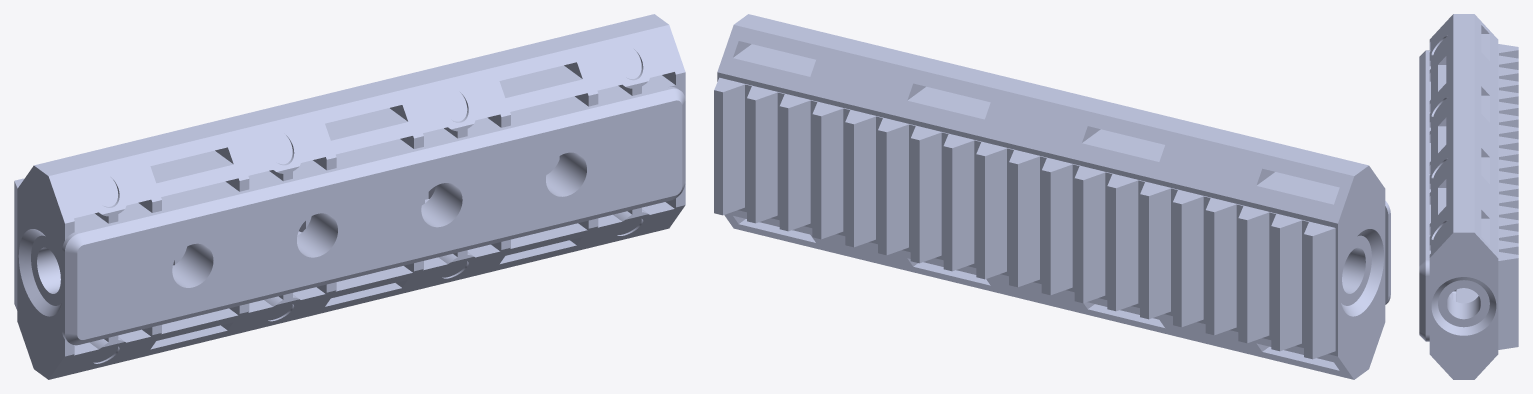
3 views of the same model, side by side, from view 1: azimuth 30°, elevation 25°; view 2: azimuth 150°, elevation 25°; view 3: azimuth 270°, elevation 25° (orthographic). The views are drawn at different scales.
Parts seen in each view (by area): view 1: NAUO1, NAUO2; view 2: NAUO1, NAUO2; view 3: NAUO1, NAUO2.
Boxes of the visible parts, left/top/right/bottom form: NAUO1: left=14, top=14, right=685, bottom=379; NAUO2: left=62, top=87, right=685, bottom=345; NAUO1: left=714, top=14, right=1385, bottom=379; NAUO2: left=1385, top=201, right=1390, bottom=304; NAUO1: left=1429, top=14, right=1518, bottom=379; NAUO2: left=1419, top=50, right=1456, bottom=341.
Size of the model in its own units: 0.0636 by 0.0199 by 0.0122.
